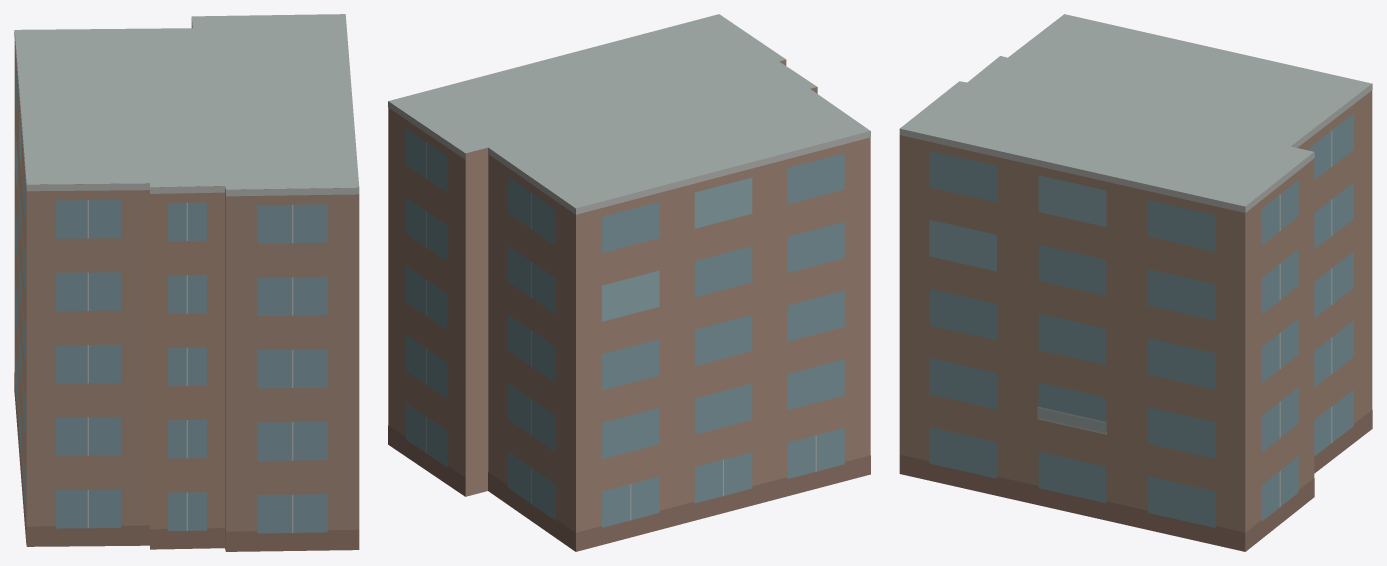
File: survey-upis-32721863.glb
3 views of the same model, side by side, from view 1: azimuth 30°, elevation 25°; view 2: azimuth 150°, elevation 25°; view 3: azimuth 270°, elevation 25° (orthographic). The views are drawn at different scales.
Parts seen in each view (by area): view 1: survey-upis-32721863.tmp; view 2: survey-upis-32721863.tmp; view 3: survey-upis-32721863.tmp.
Boxes of the visible parts, left/top/right/bottom form: survey-upis-32721863.tmp: left=14, top=14, right=359, bottom=551; survey-upis-32721863.tmp: left=388, top=14, right=870, bottom=551; survey-upis-32721863.tmp: left=899, top=14, right=1372, bottom=551.
Bounding box in the file's own units: 15.8 × 13.2 × 16.39.
